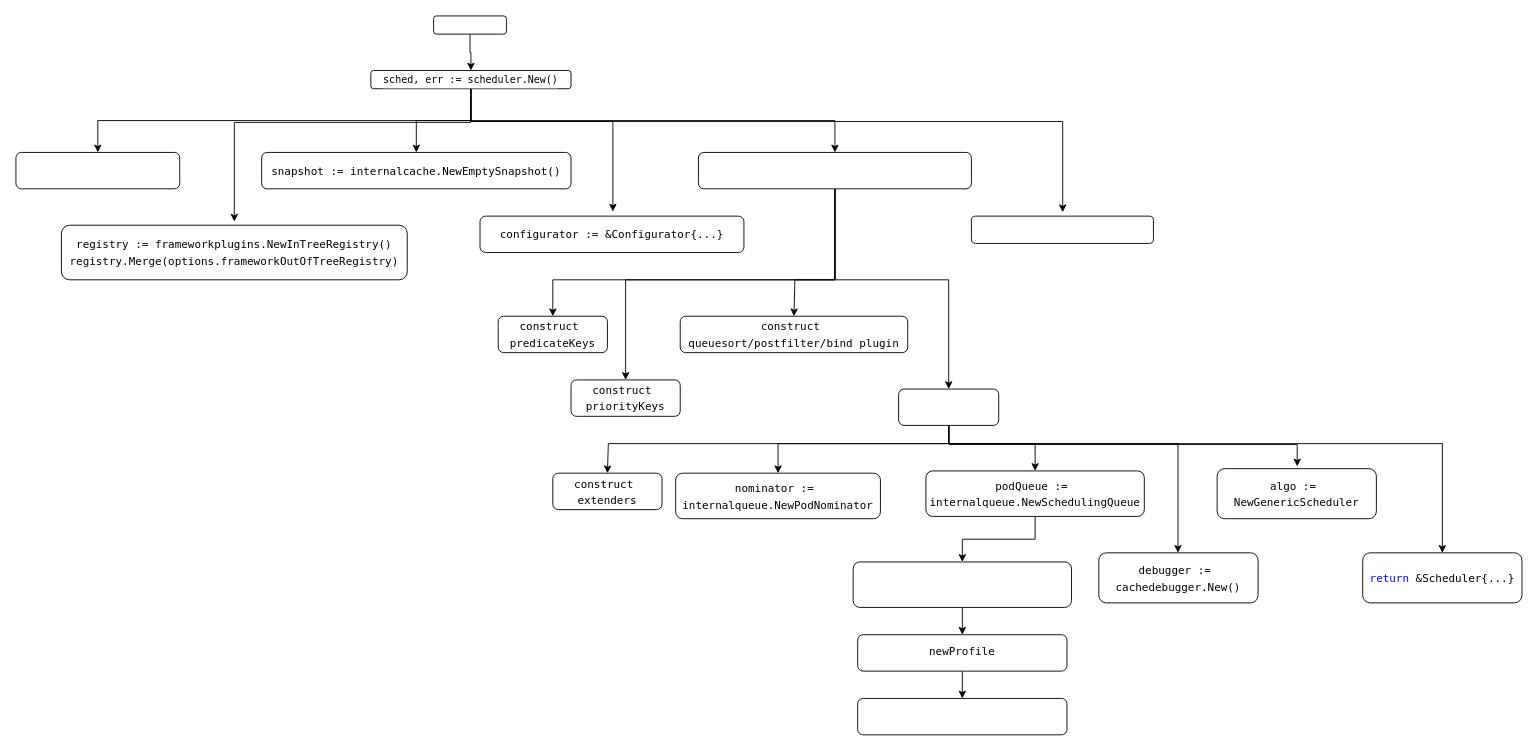
This 1538x751 diagram has some shape labels left out. The shapes that lost their labels are listed below. From the top down, each one's box as (x1, y1, x2, y2) in pixels, then its label:
(433, 15, 506, 34): setup
(15, 152, 180, 189): schedulerCache := internalcache.New()
(698, 152, 971, 189): sc, err := configurator.createFromPolicy
(971, 215, 1153, 243): addAllEventHandlers
(898, 388, 999, 425): c.create()
(852, 561, 1072, 607): profiles, err := profile.NewMap
(857, 698, 1067, 735): frameworkruntime.NewFramework
